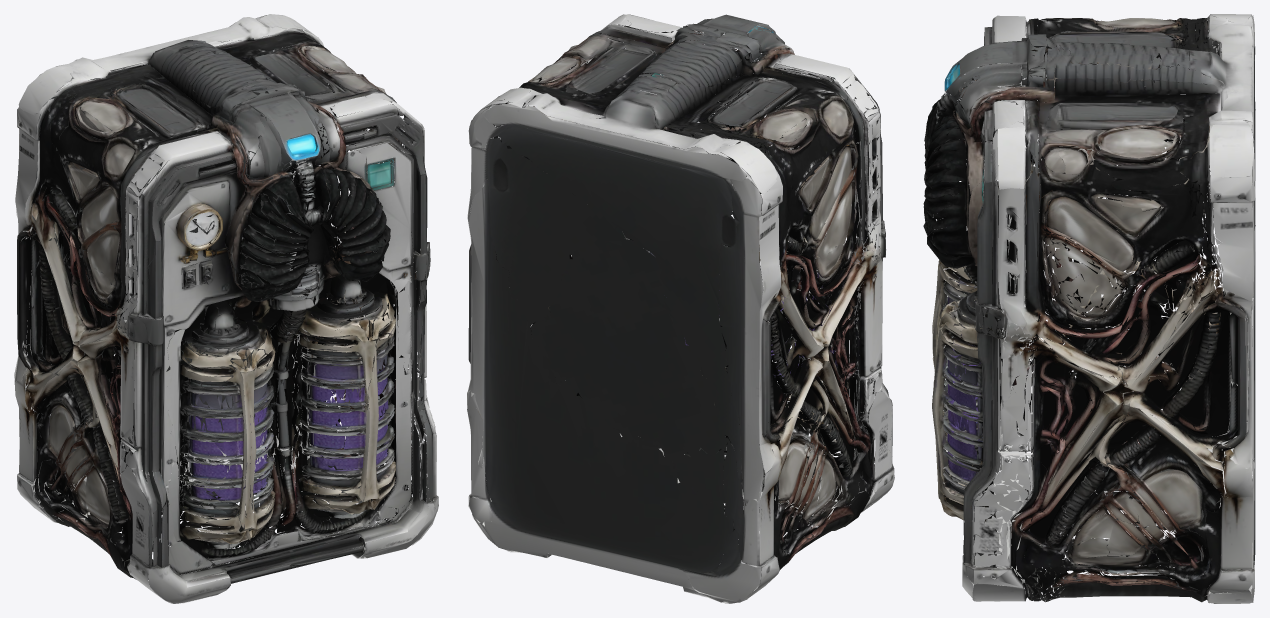
Rendered from evac_cabin_co2_scrubber.glb.
The picture shows the model from 3 angles, left to right: view 1: azimuth 30°, elevation 25°; view 2: azimuth 150°, elevation 25°; view 3: azimuth 270°, elevation 25°; orthographic projection. The views are drawn at different scales.
Visible parts, largest first — view 1: node_0; view 2: node_0; view 3: node_0.
Boxes of the visible parts, x1=… form: node_0: x1=14, y1=14, x2=438, y2=603; node_0: x1=467, y1=14, x2=894, y2=603; node_0: x1=923, y1=14, x2=1255, y2=603.
Size of the model in its own units: 0.6457 by 0.9509 by 0.5765.
1 material, 1 textured.
